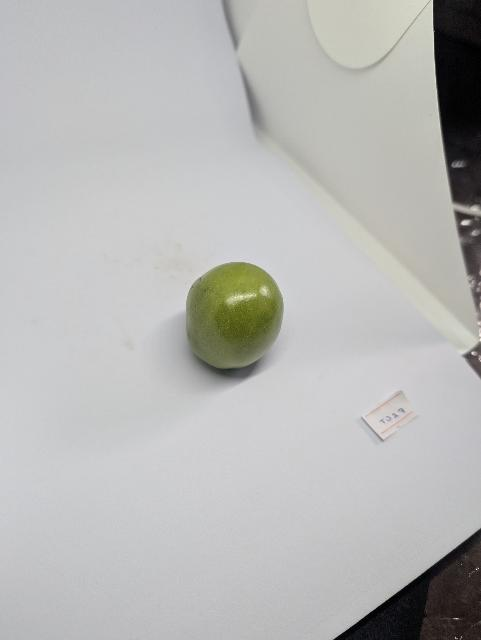green: (181, 258, 286, 372)
